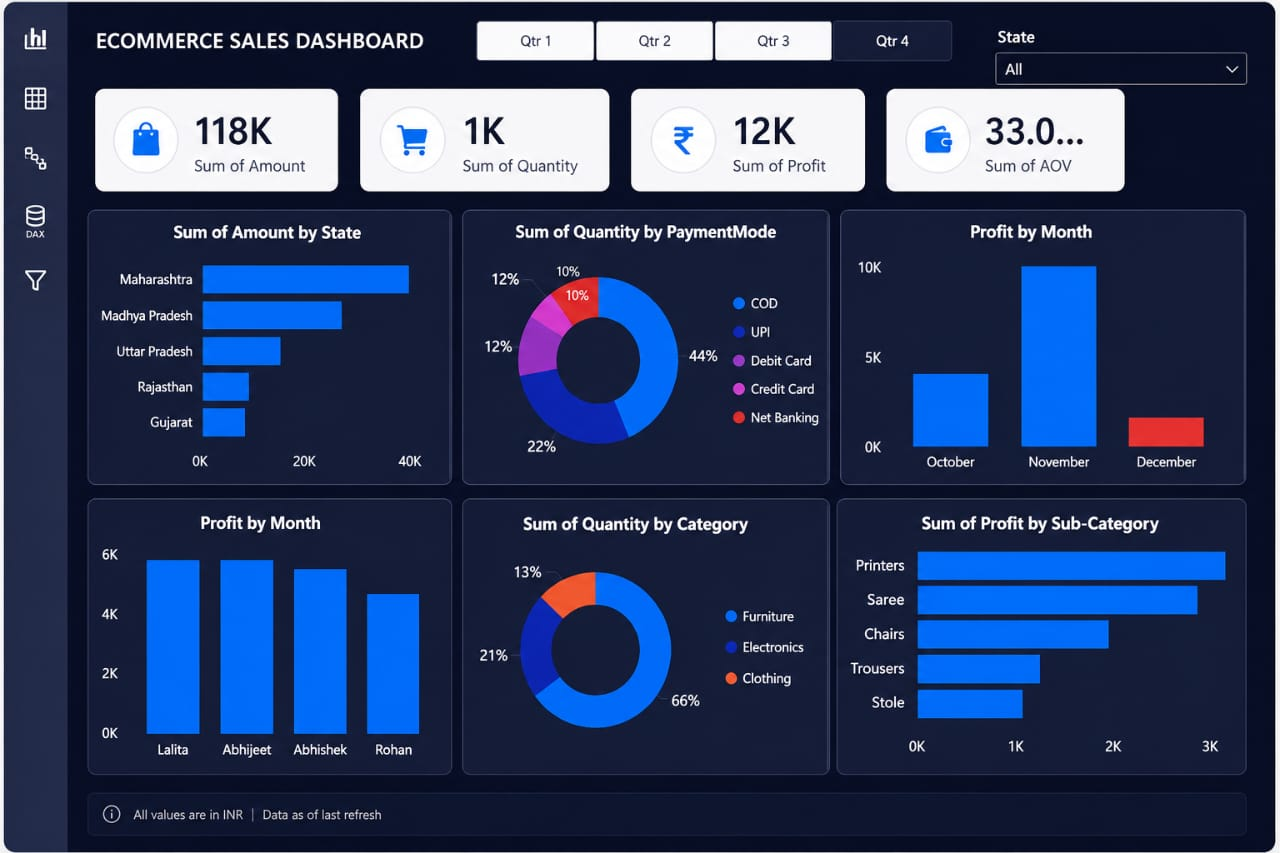

The page's visual inventory and layout, read from the dashboard file:
{"tool":"powerbi","page":{"name":"Page 1","canvas":[1280,720],"ordinal":0},"visuals":[{"type":"textbox","box":[0,0,369.4,44.4],"z":0},{"type":"columnChart","title":"Profit by Month","fields":{"Category":["Orders.Order Date.Variation.Date Hierarchy.Month"],"Y":["Sum(Details.Profit)"]},"box":[762.2,81.1,433.3,307.8],"z":1000},{"type":"barChart","fields":{"Category":["Details.Sub-Category"],"Y":["Sum(Details.Profit)"]},"box":[765.7,404.8,487.1,296.4],"z":2000},{"type":"donutChart","fields":{"Category":["Details.Category"],"Y":["Sum(Details.Quantity)"]},"box":[415.6,455.6,334.4,234.4],"z":3000},{"type":"donutChart","fields":{"Category":["Details.PaymentMode"],"Y":["Sum(Details.Quantity)"]},"box":[415.6,185.6,334.4,253.3],"z":4000},{"type":"cardVisual","fields":{"Data":["Sum(Details.Amount)"]},"box":[0,49.4,160.5,108.4],"z":5000},{"type":"cardVisual","fields":{"Data":["Sum(Details.Quantity)"]},"box":[185.2,49.4,183.9,109.8],"z":6000},{"type":"cardVisual","fields":{"Data":["Sum(Details.Profit)"]},"box":[382.8,49.4,177,108.4],"z":7000},{"type":"cardVisual","fields":{"Data":["Sum(Details.AOV)"]},"box":[570.8,49.4,171.5,109.8],"z":8000},{"type":"barChart","fields":{"Category":["Orders.State"],"Y":["Sum(Details.Amount)"]},"box":[15.6,176.7,386.7,262.2],"z":9000},{"type":"columnChart","title":"Profit by Month","fields":{"Category":["Orders.CustomerName"],"Y":["Sum(Details.Amount)"]},"box":[15.6,455.6,386.7,245.6],"z":10000},{"type":"slicer","fields":{"Values":["Orders.Order Date.Variation.Date Hierarchy.Quarter"]},"box":[386.7,0,577.8,48.9],"z":11000},{"type":"slicer","fields":{"Values":["Orders.State"]},"box":[978.9,0,180,68.9],"z":12000}]}

Visuals, with their boxes on the page's 1280x720 design canvas (x1, y1, x2, y2). These are canvas units, not pixel positions in the 1280x853 screenshot, which may show the page scaled, cropped or inside an application window:
textbox: {"left": 0, "top": 0, "right": 369, "bottom": 44}
"Profit by Month" columnChart: {"left": 762, "top": 81, "right": 1196, "bottom": 389}
barChart - Details.Sub-Category x Sum(Details.Profit): {"left": 766, "top": 405, "right": 1253, "bottom": 701}
donutChart - Details.Category x Sum(Details.Quantity): {"left": 416, "top": 456, "right": 750, "bottom": 690}
donutChart - Details.PaymentMode x Sum(Details.Quantity): {"left": 416, "top": 186, "right": 750, "bottom": 439}
cardVisual - Sum(Details.Amount): {"left": 0, "top": 49, "right": 160, "bottom": 158}
cardVisual - Sum(Details.Quantity): {"left": 185, "top": 49, "right": 369, "bottom": 159}
cardVisual - Sum(Details.Profit): {"left": 383, "top": 49, "right": 560, "bottom": 158}
cardVisual - Sum(Details.AOV): {"left": 571, "top": 49, "right": 742, "bottom": 159}
barChart - Orders.State x Sum(Details.Amount): {"left": 16, "top": 177, "right": 402, "bottom": 439}
"Profit by Month" columnChart: {"left": 16, "top": 456, "right": 402, "bottom": 701}
slicer - Orders.Order Date.Variation.Date Hierarchy.Quarter: {"left": 387, "top": 0, "right": 964, "bottom": 49}
slicer - Orders.State: {"left": 979, "top": 0, "right": 1159, "bottom": 69}
